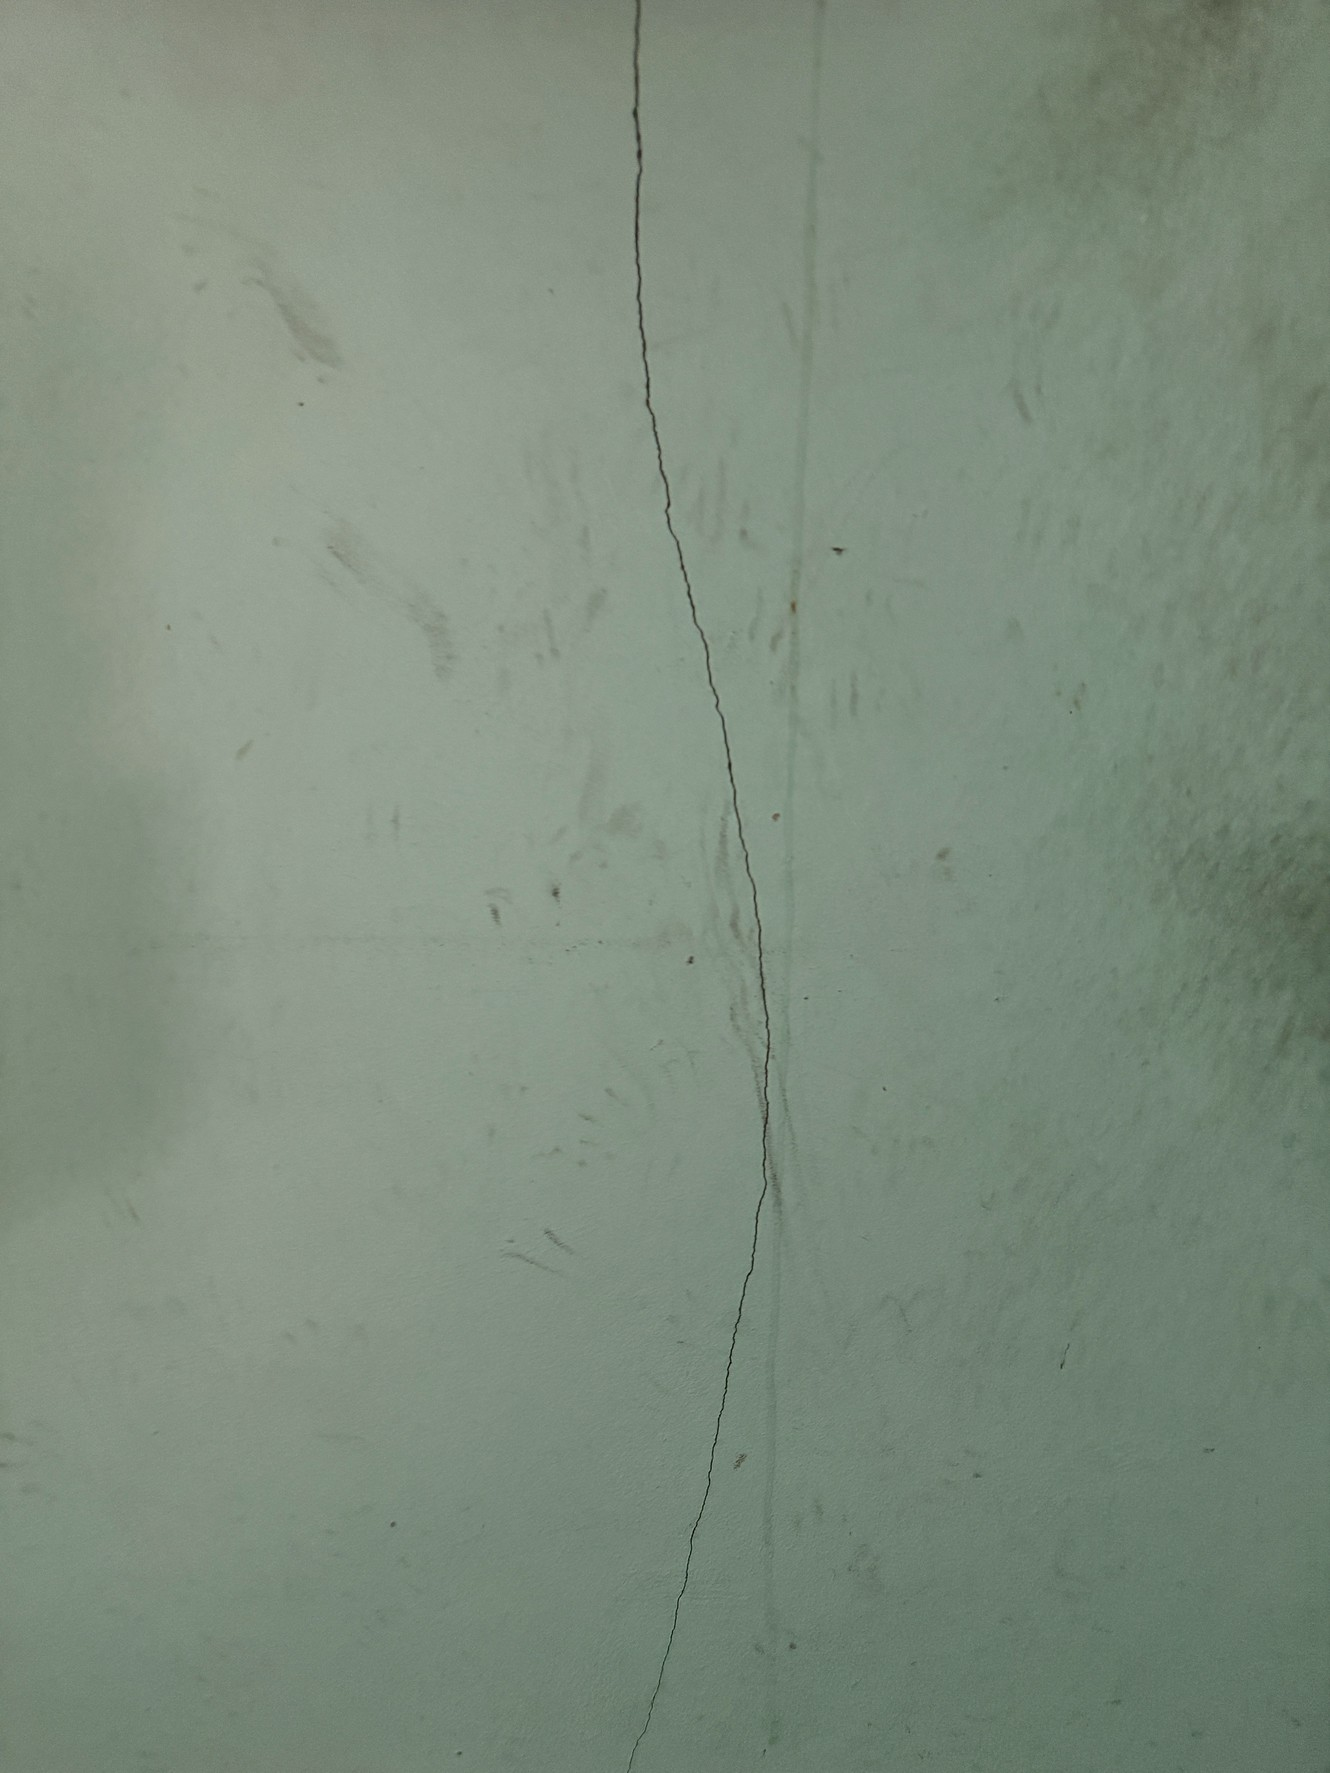Low: (549, 1, 837, 1773)
